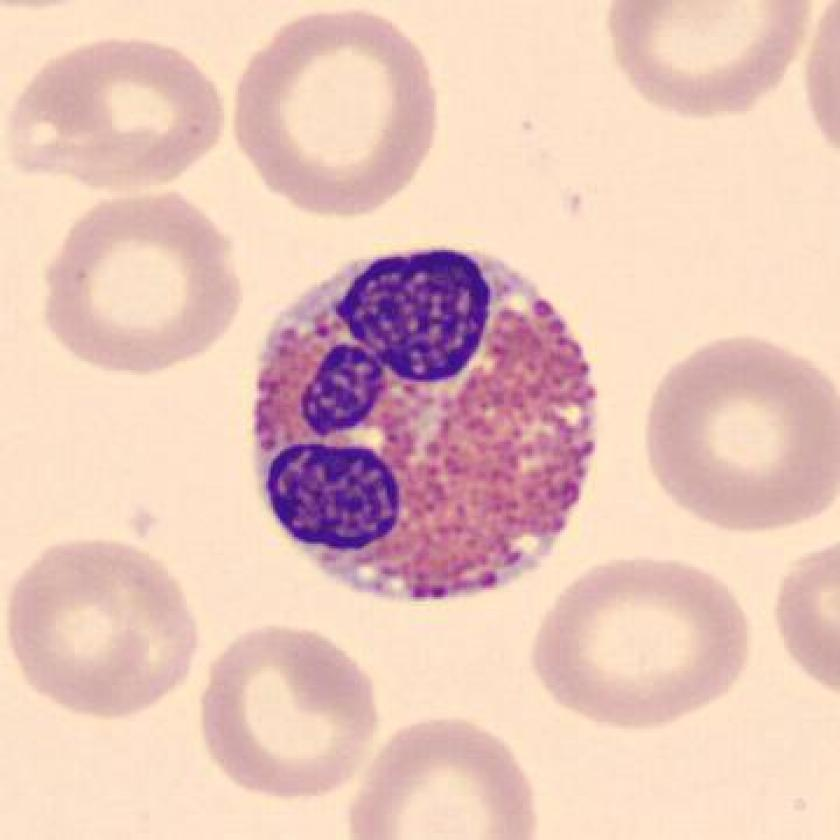eosinophil: (246, 242, 610, 607)
